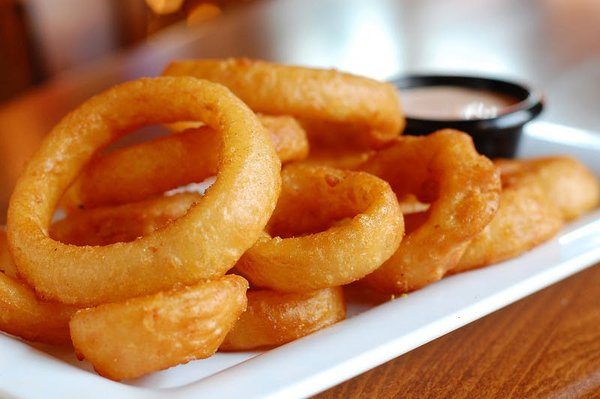salad: (0, 74, 284, 348)
